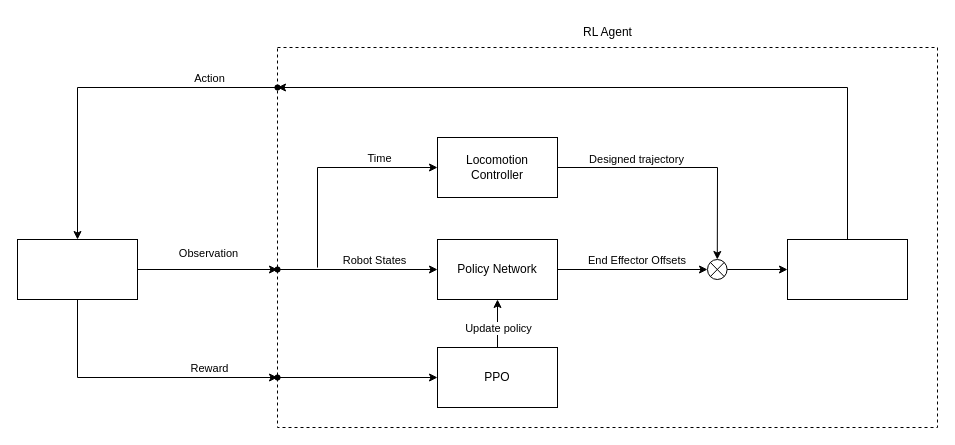
Image size: 955x445. Some labels were removed from this diagram. The shapes that lost their labels are listed below. From the top down, each one's box as (x1, y1, x2, y2) in pixels, then its label:
(16, 238, 138, 300): Environment
(786, 238, 908, 300): Motor Controller
